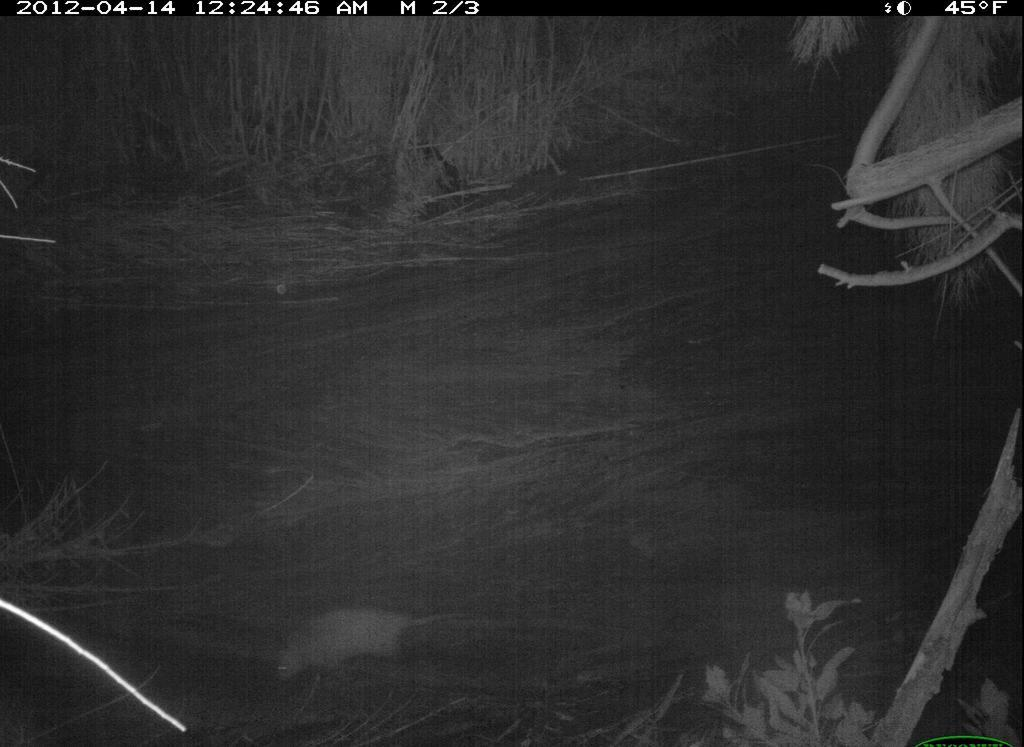opossum: (260, 600, 487, 693)
